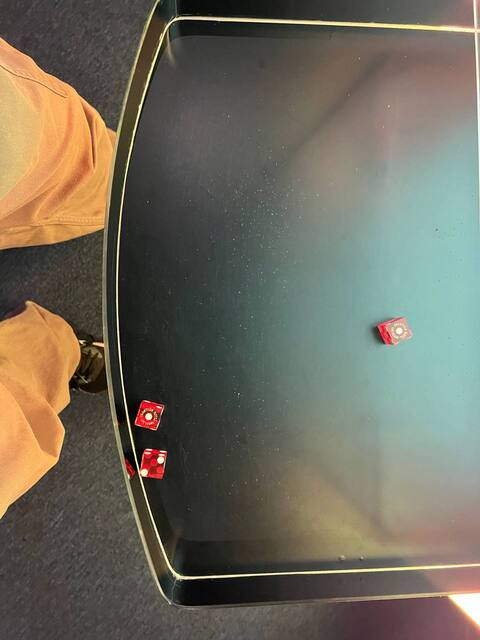one: (132, 403, 165, 434), (383, 316, 412, 346)
two: (137, 453, 172, 482)
